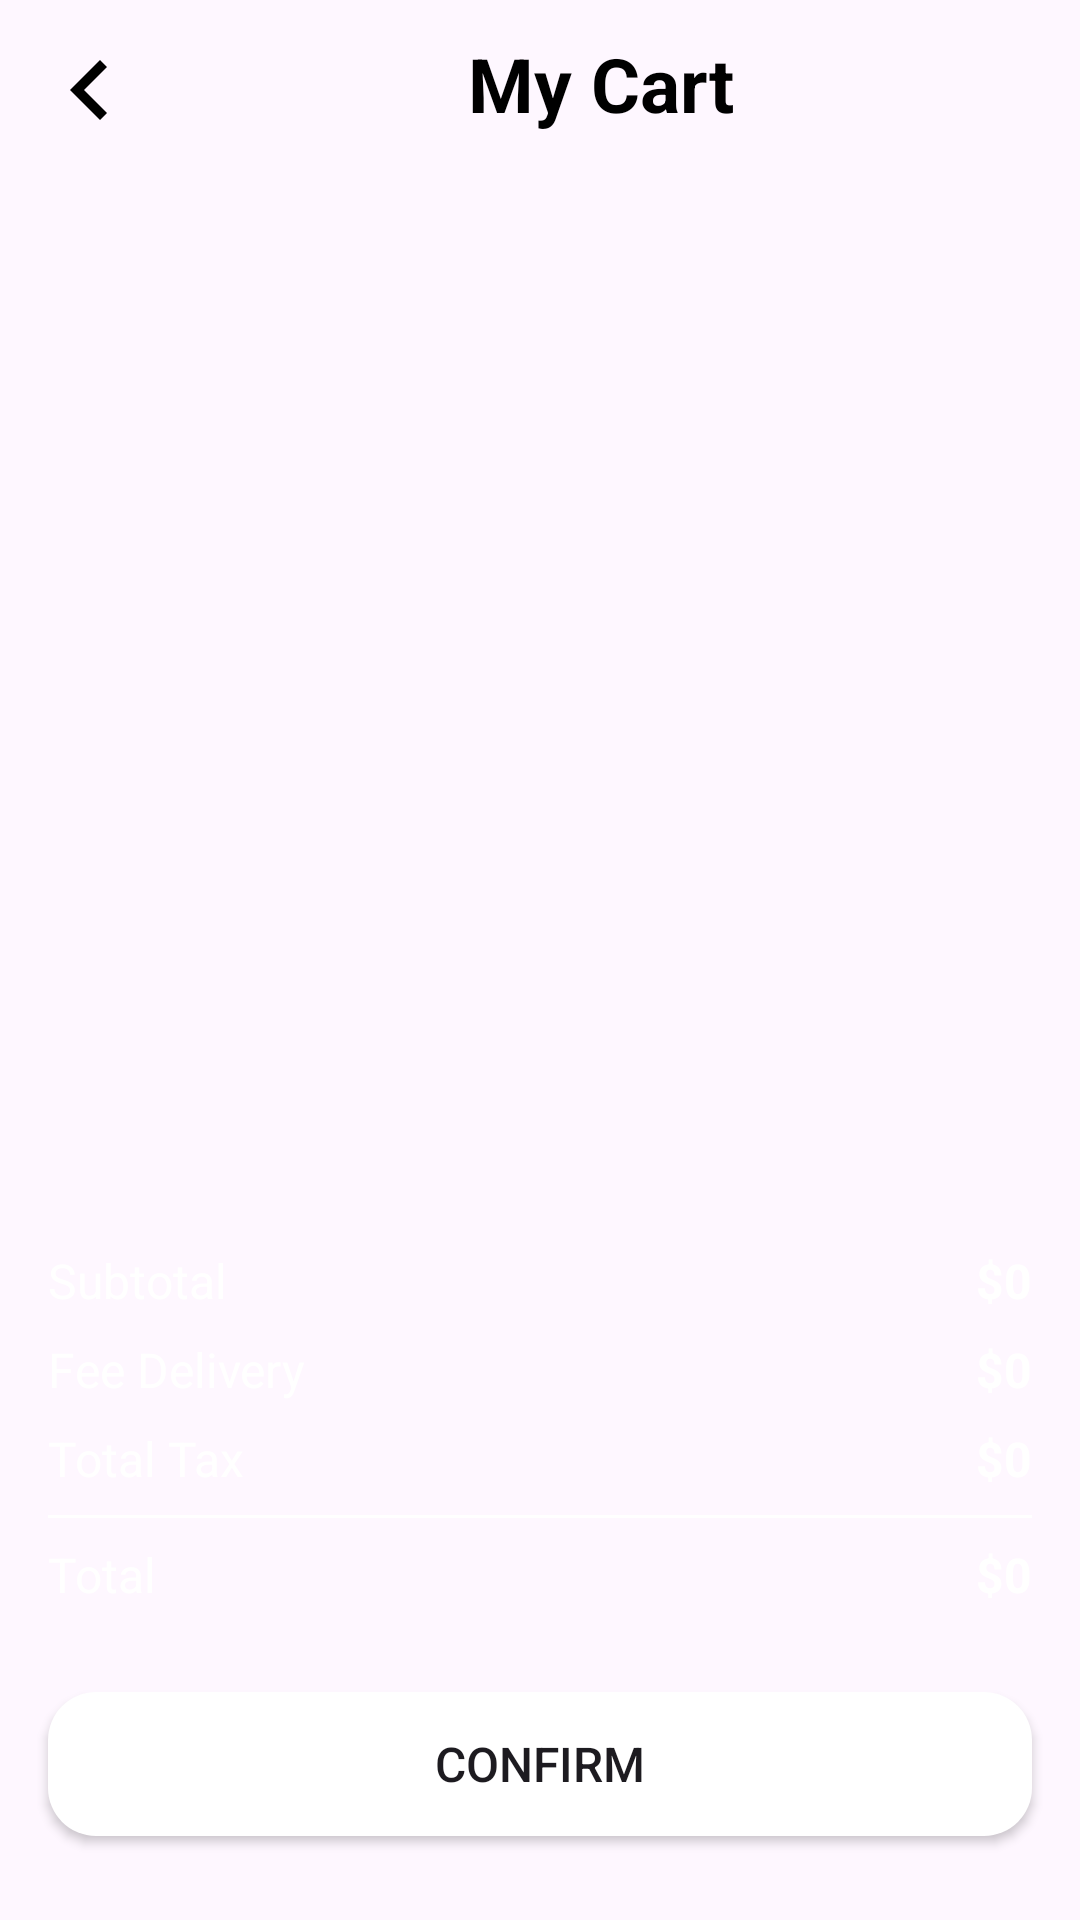

Where icons sit on this 1080x1920 app screen, as (x1=x1, y1=y1, x2=x2, y2=y2):
back: (x1=70, y1=60, x2=107, y2=120)
